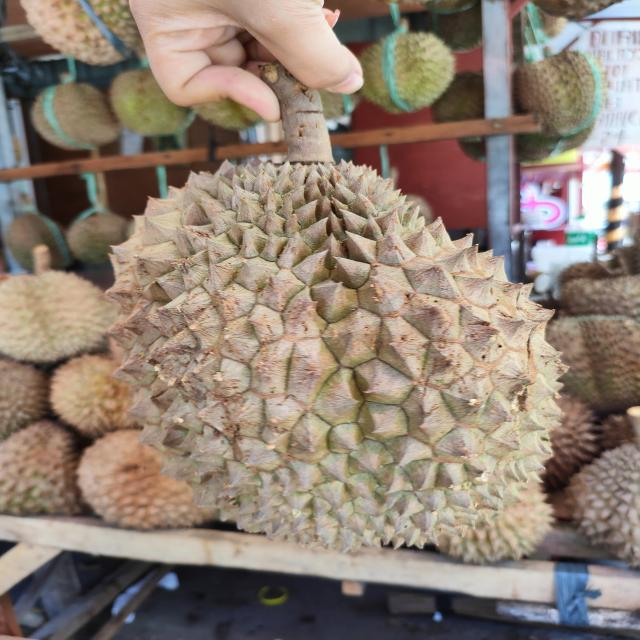mature: (100, 154, 570, 557)
